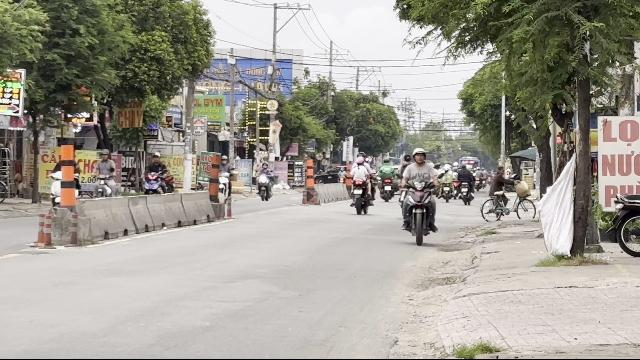helmet: (412, 147, 428, 163)
motorcyclist: (397, 146, 441, 244)
